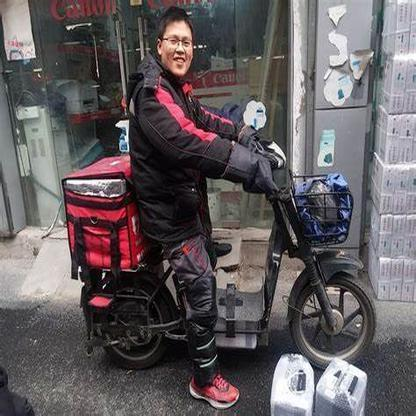target: (62, 8, 378, 369)
